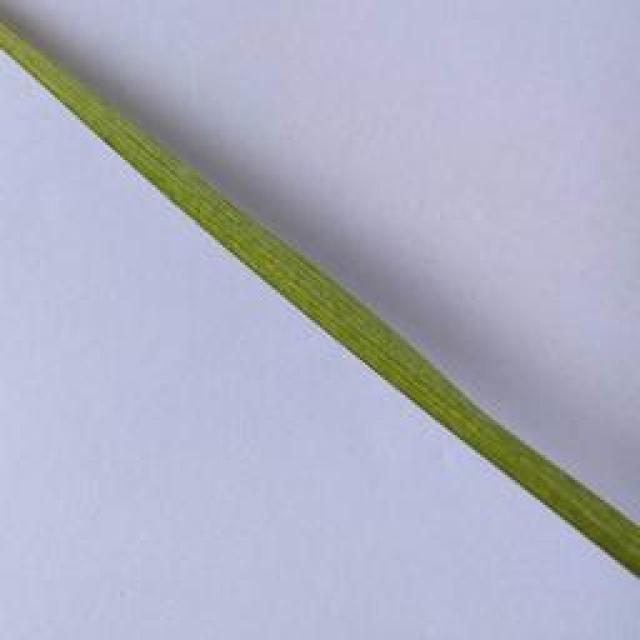Healthy-Plant: (0, 8, 640, 580)
